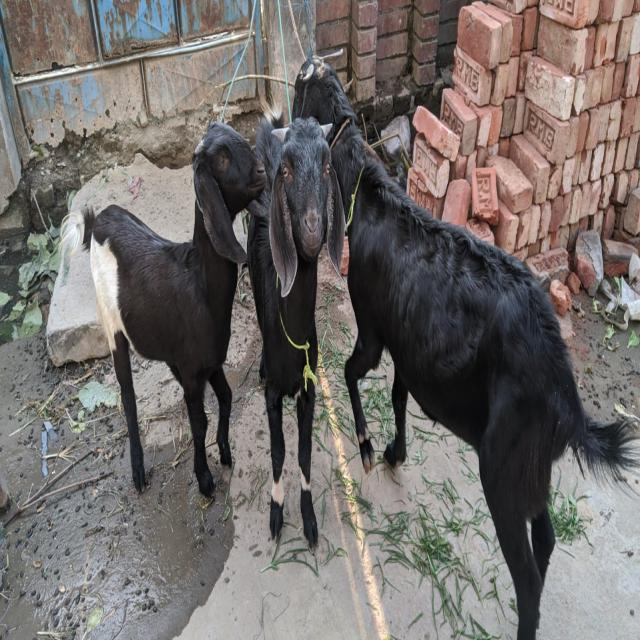Goat: (290, 55, 639, 638), (59, 119, 267, 499), (245, 94, 345, 552)
